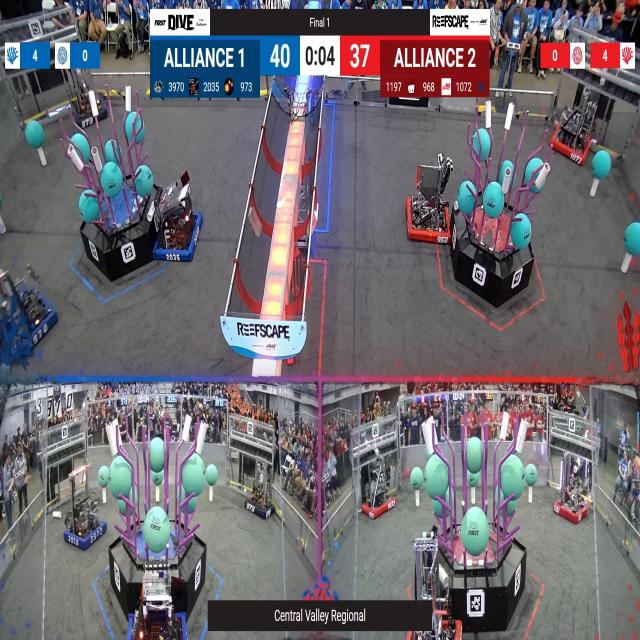scoreboard: (151, 37, 490, 98)
